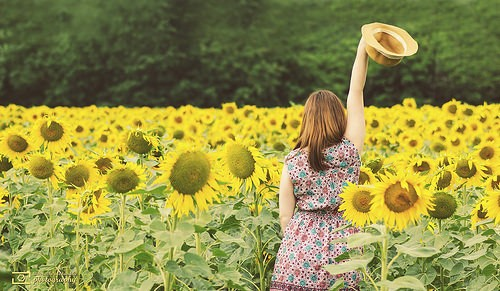flower: (154, 136, 236, 219), (366, 170, 437, 230)
